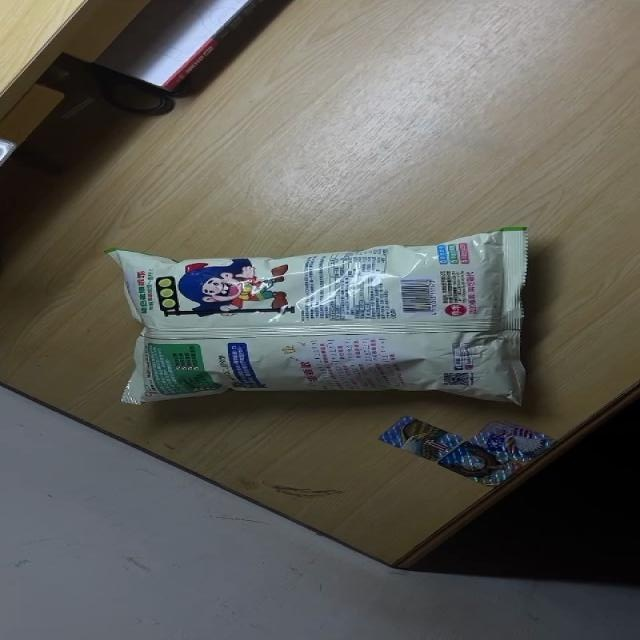Good-Luck: (116, 227, 535, 408)
